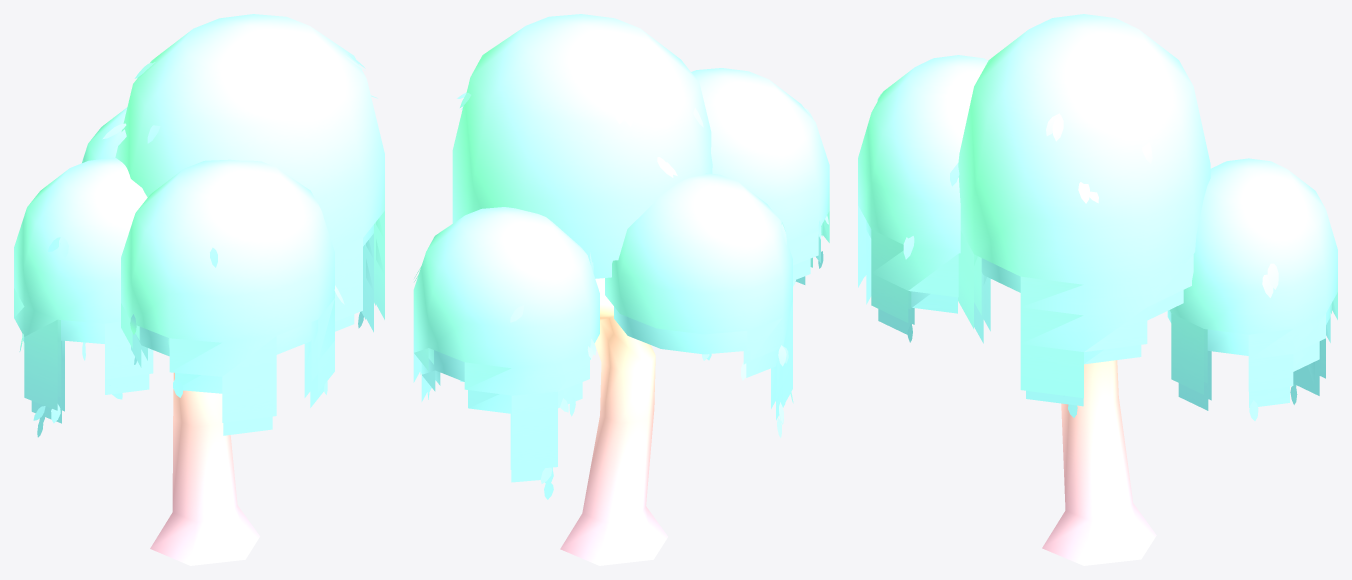
File: Willow_Tree.glb
The picture shows the model from 3 angles, left to right: view 1: azimuth 30°, elevation 25°; view 2: azimuth 150°, elevation 25°; view 3: azimuth 270°, elevation 25°; orthographic projection. The views are drawn at different scales.
Parts seen in each view (by area): view 1: Willow_Tree_Material #22_0; view 2: Willow_Tree_Material #22_0; view 3: Willow_Tree_Material #22_0.
Boxes of the visible parts, box(x1,y1,x2,y2) form: Willow_Tree_Material #22_0: box(14, 14, 384, 565); Willow_Tree_Material #22_0: box(413, 14, 829, 565); Willow_Tree_Material #22_0: box(858, 14, 1337, 565).
Size of the model in its own units: 11.24 by 15.89 by 13.
